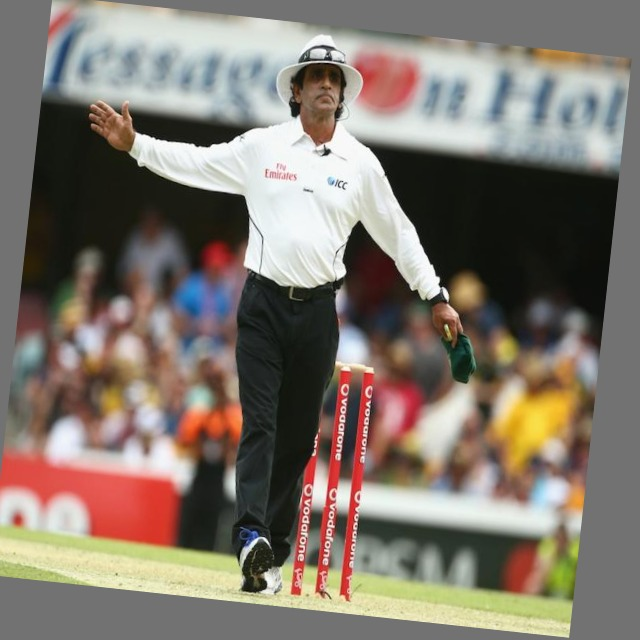No_Ball: (33, 6, 508, 624)
